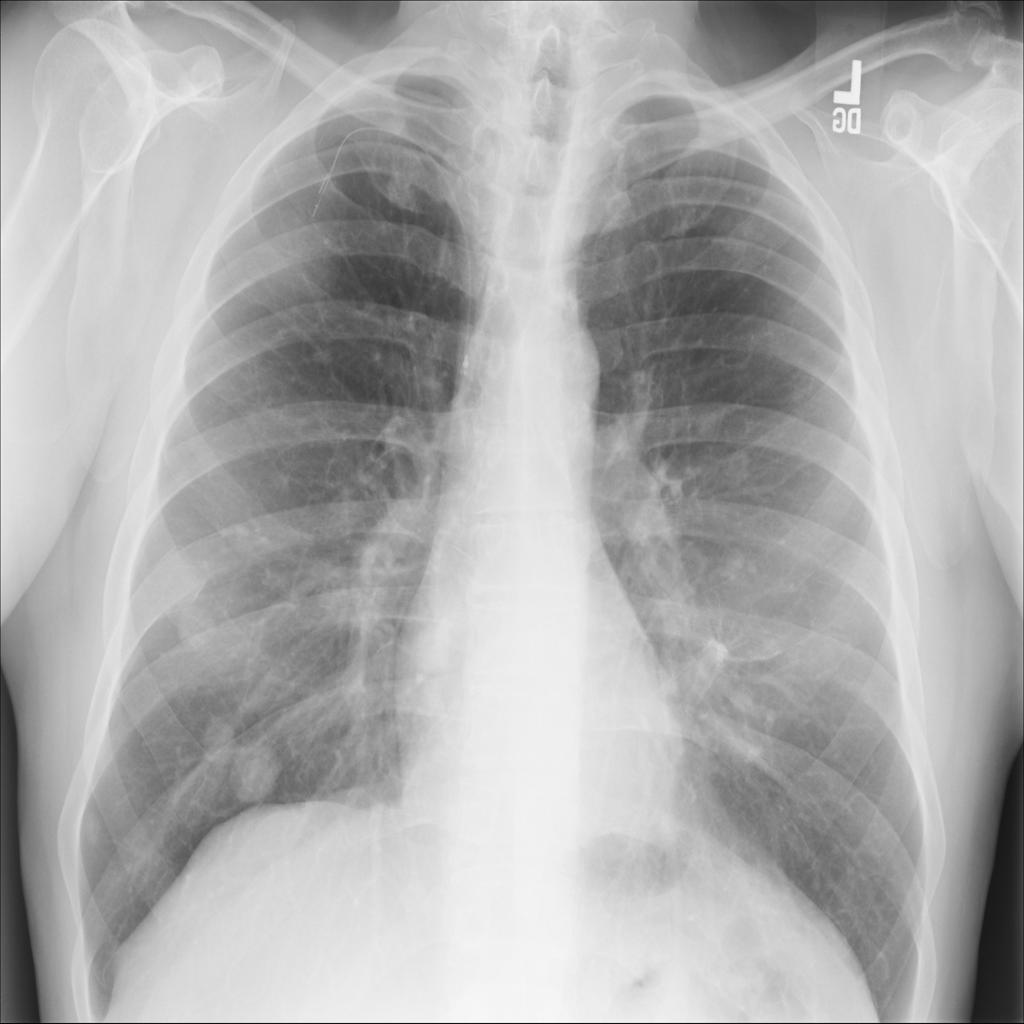nodule: (222, 731, 290, 815), (161, 589, 230, 663), (186, 697, 251, 767), (70, 800, 114, 858)
